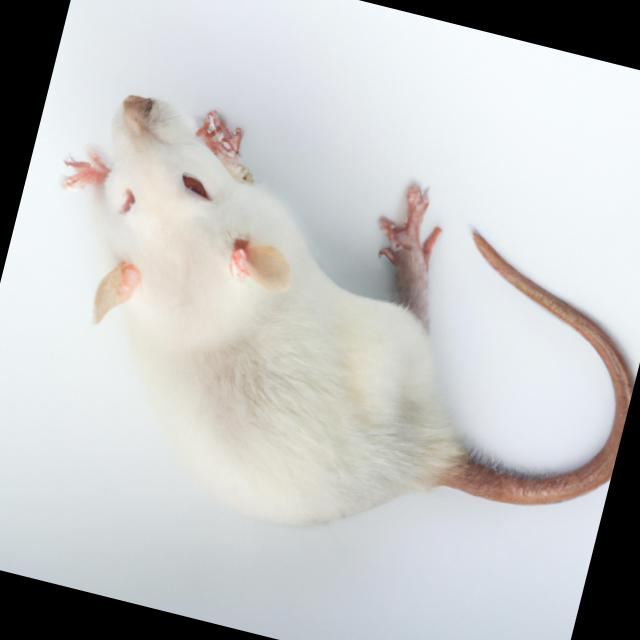rodents: (0, 35, 549, 589)
